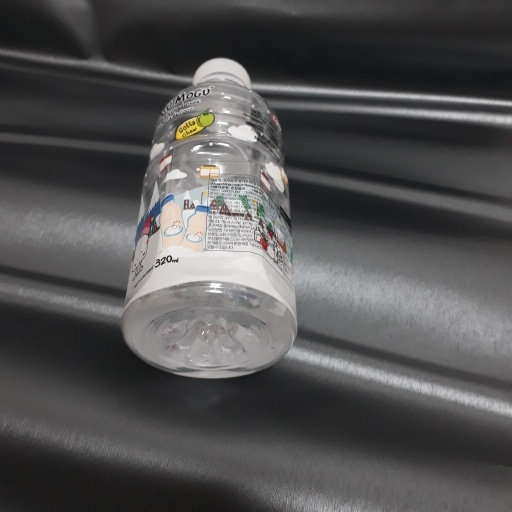Plastic_0: (123, 57, 299, 377)
